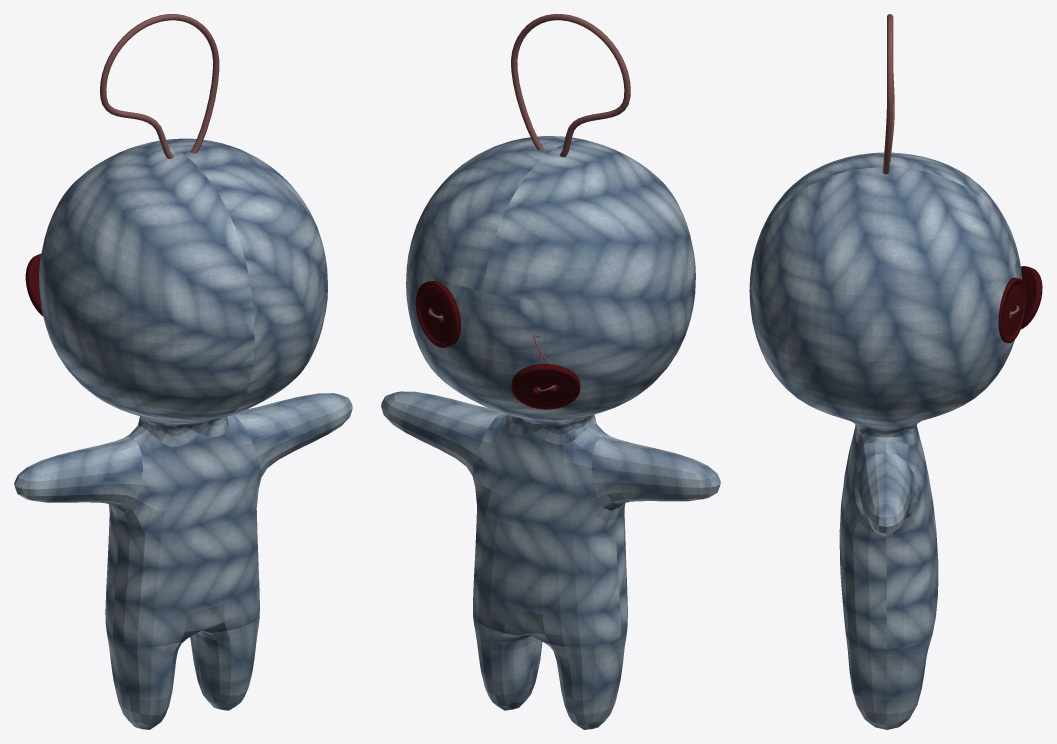
File: WoodooDoll_WithTexture (1).fbx
3 renders of one model, left to right at view 1: azimuth 30°, elevation 25°; view 2: azimuth 150°, elevation 25°; view 3: azimuth 270°, elevation 25°, orthographic. The views are drawn at different scales.
Parts seen in each view (by area): view 1: Cube, BezierCircle, button.002; view 2: Cube, BezierCircle, button.002, button.003; view 3: Cube, button.003, BezierCircle, button.002.
Part boxes in pixels (x1,y1,x2,y2): Cube: [14, 138, 352, 729]; BezierCircle: [100, 14, 219, 158]; button.002: [25, 254, 43, 316]; Cube: [381, 136, 720, 729]; BezierCircle: [511, 14, 630, 157]; button.002: [511, 364, 580, 409]; button.003: [415, 281, 460, 347]; Cube: [749, 152, 1022, 729]; button.003: [998, 277, 1026, 343]; BezierCircle: [882, 14, 894, 174]; button.002: [1020, 266, 1042, 329].
Bounding box in the file's own units: 226 × 453 × 177.
